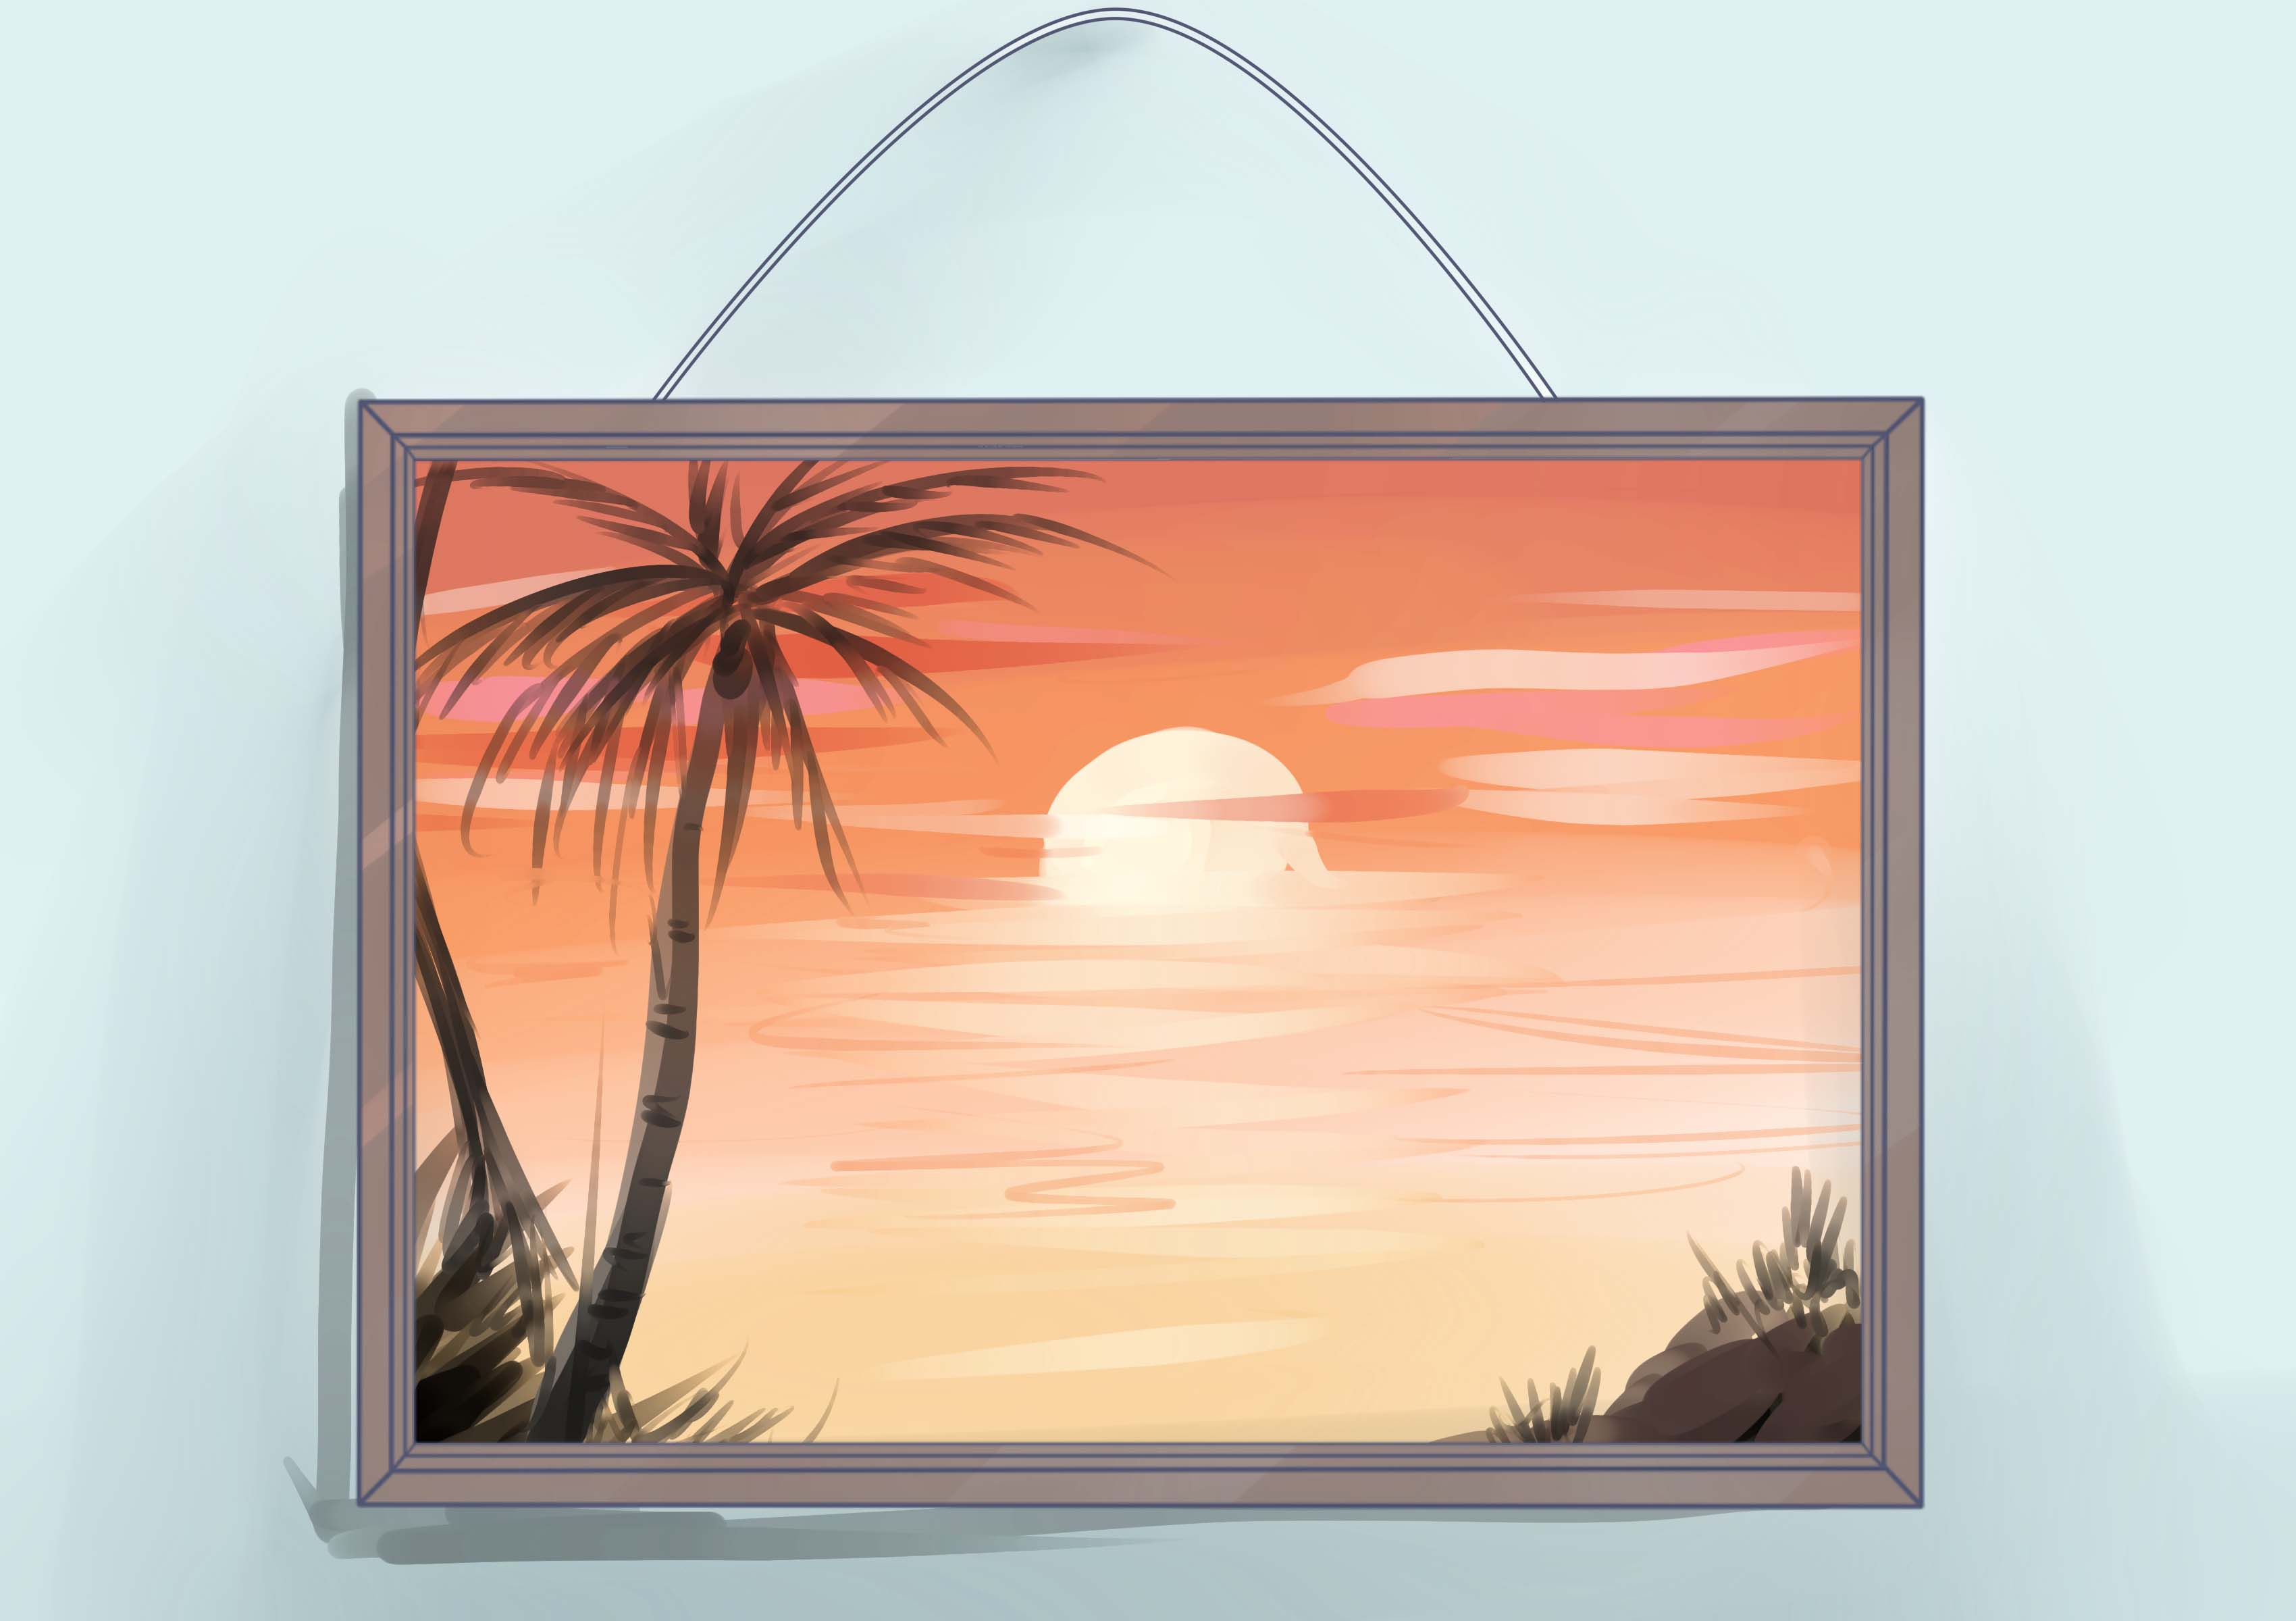lukisan: (279, 405, 1950, 1554)
